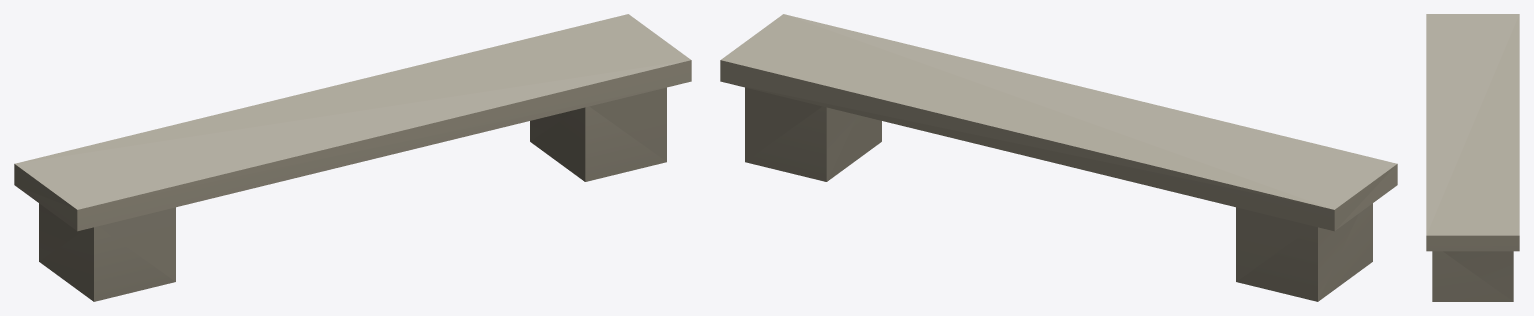
File: waitbench.glb
3 renders of one model, left to right at view 1: azimuth 30°, elevation 25°; view 2: azimuth 150°, elevation 25°; view 3: azimuth 270°, elevation 25°, orthographic. The views are drawn at different scales.
Visible parts, largest first — view 1: base; view 2: base; view 3: base.
Boxes of the visible parts, <box> form: base: <box>14,14,691,301</box>; base: <box>720,14,1397,301</box>; base: <box>1426,14,1519,301</box>.
Size of the model in its own units: 0.9 by 0.14 by 0.16.
